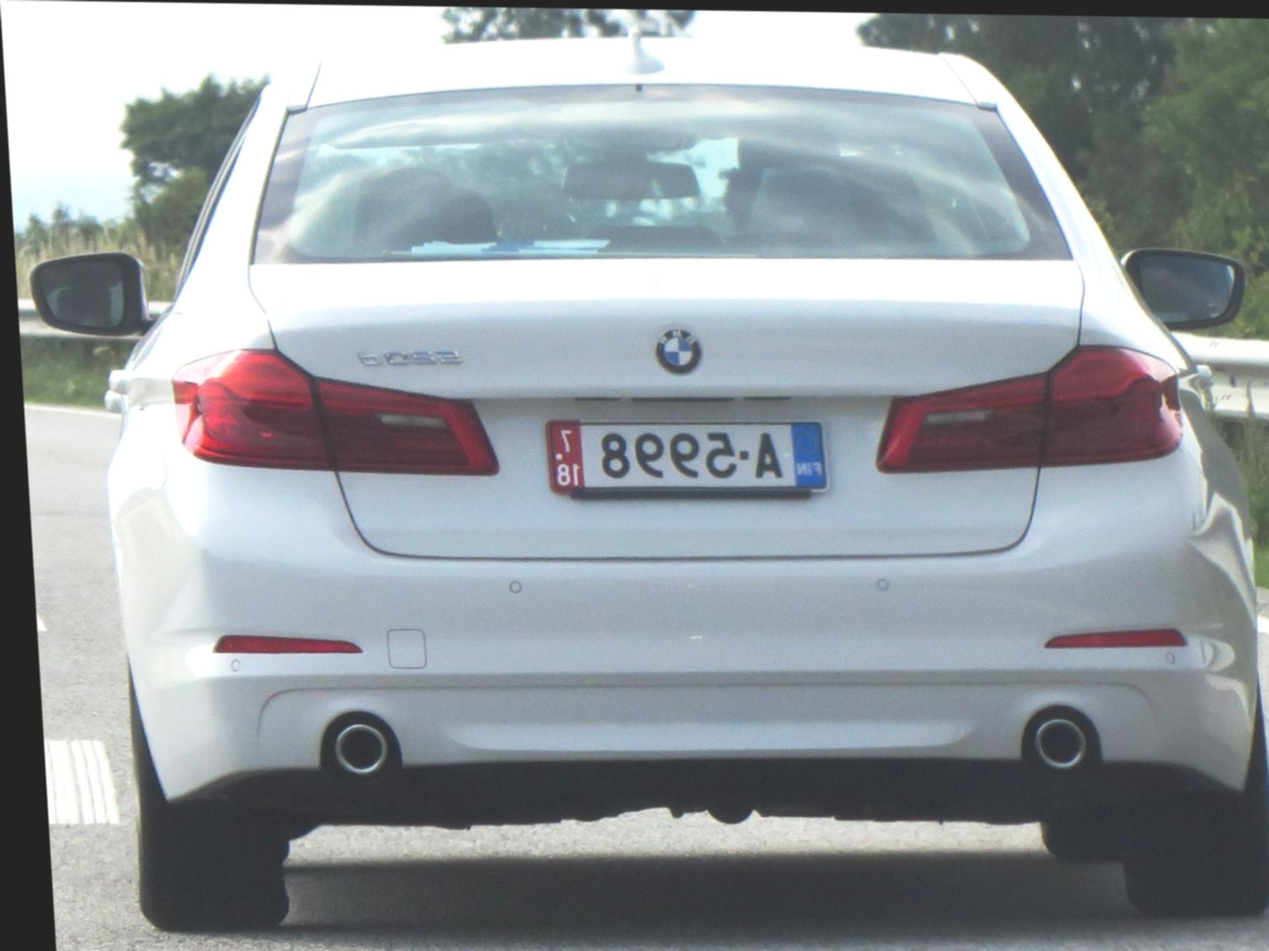License_Plate: (546, 410, 825, 503)
